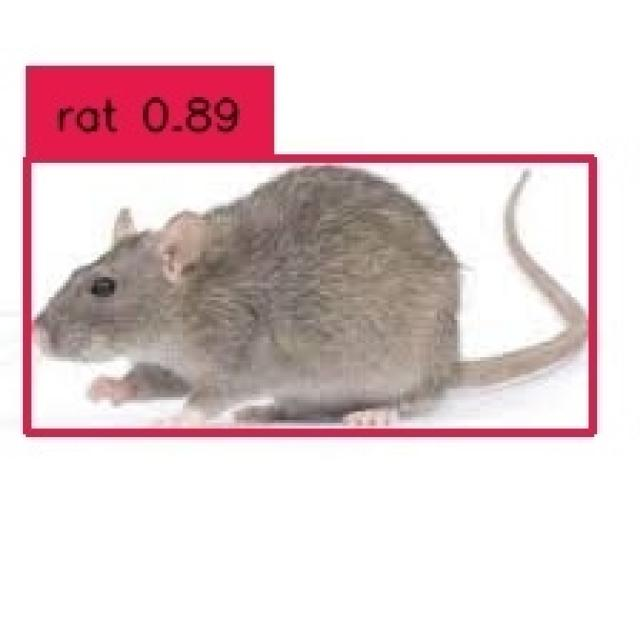rat: (23, 154, 588, 429)
